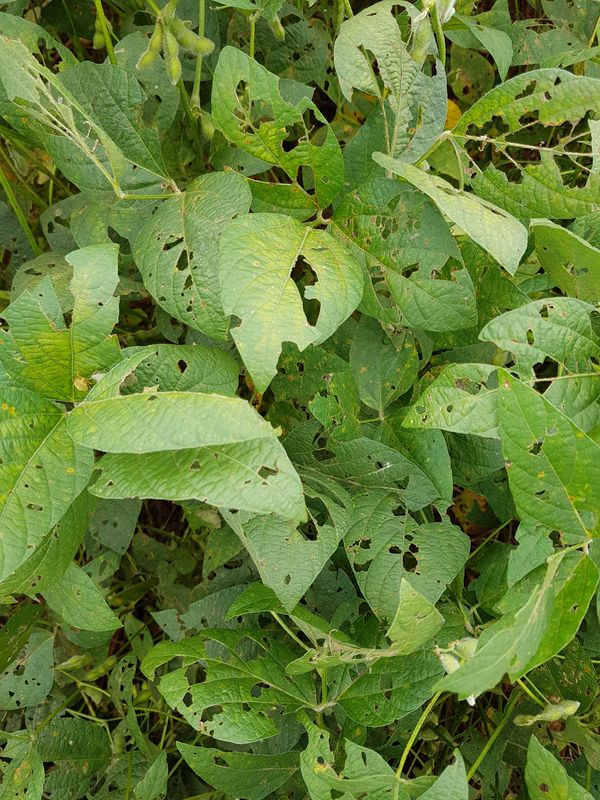Euschistus_heros_ninfa: (69, 369, 96, 398)
